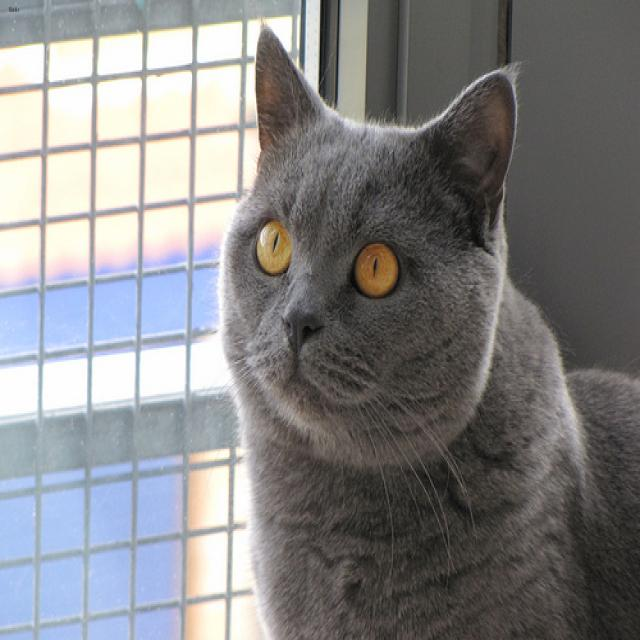cat: (219, 19, 514, 433)
